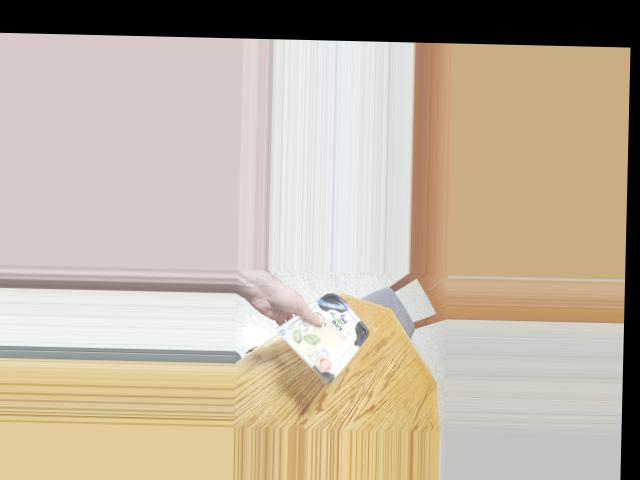cheese: (292, 292, 361, 372)
